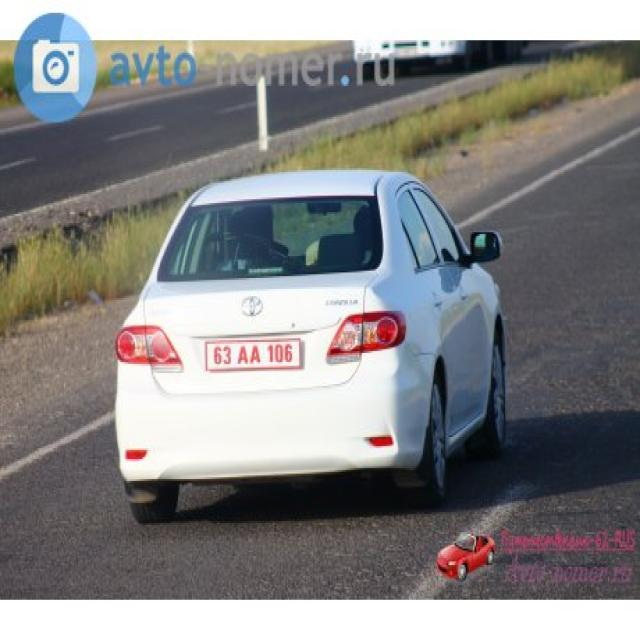license: (200, 331, 310, 376)
